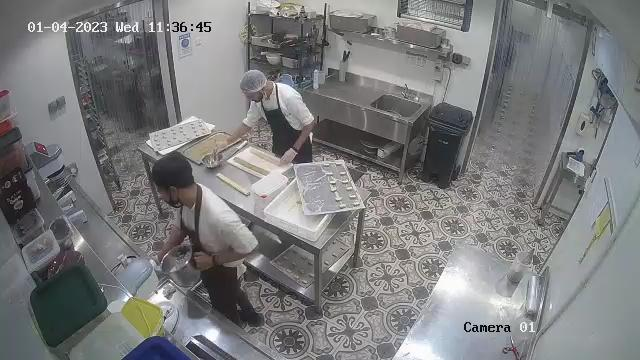apron: (174, 189, 243, 323), (260, 84, 311, 164)
